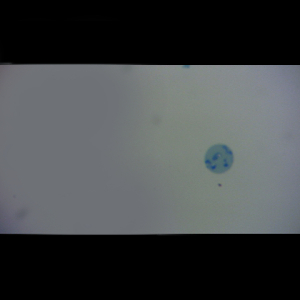aggregate reticulocyte: (203, 143, 235, 175)
